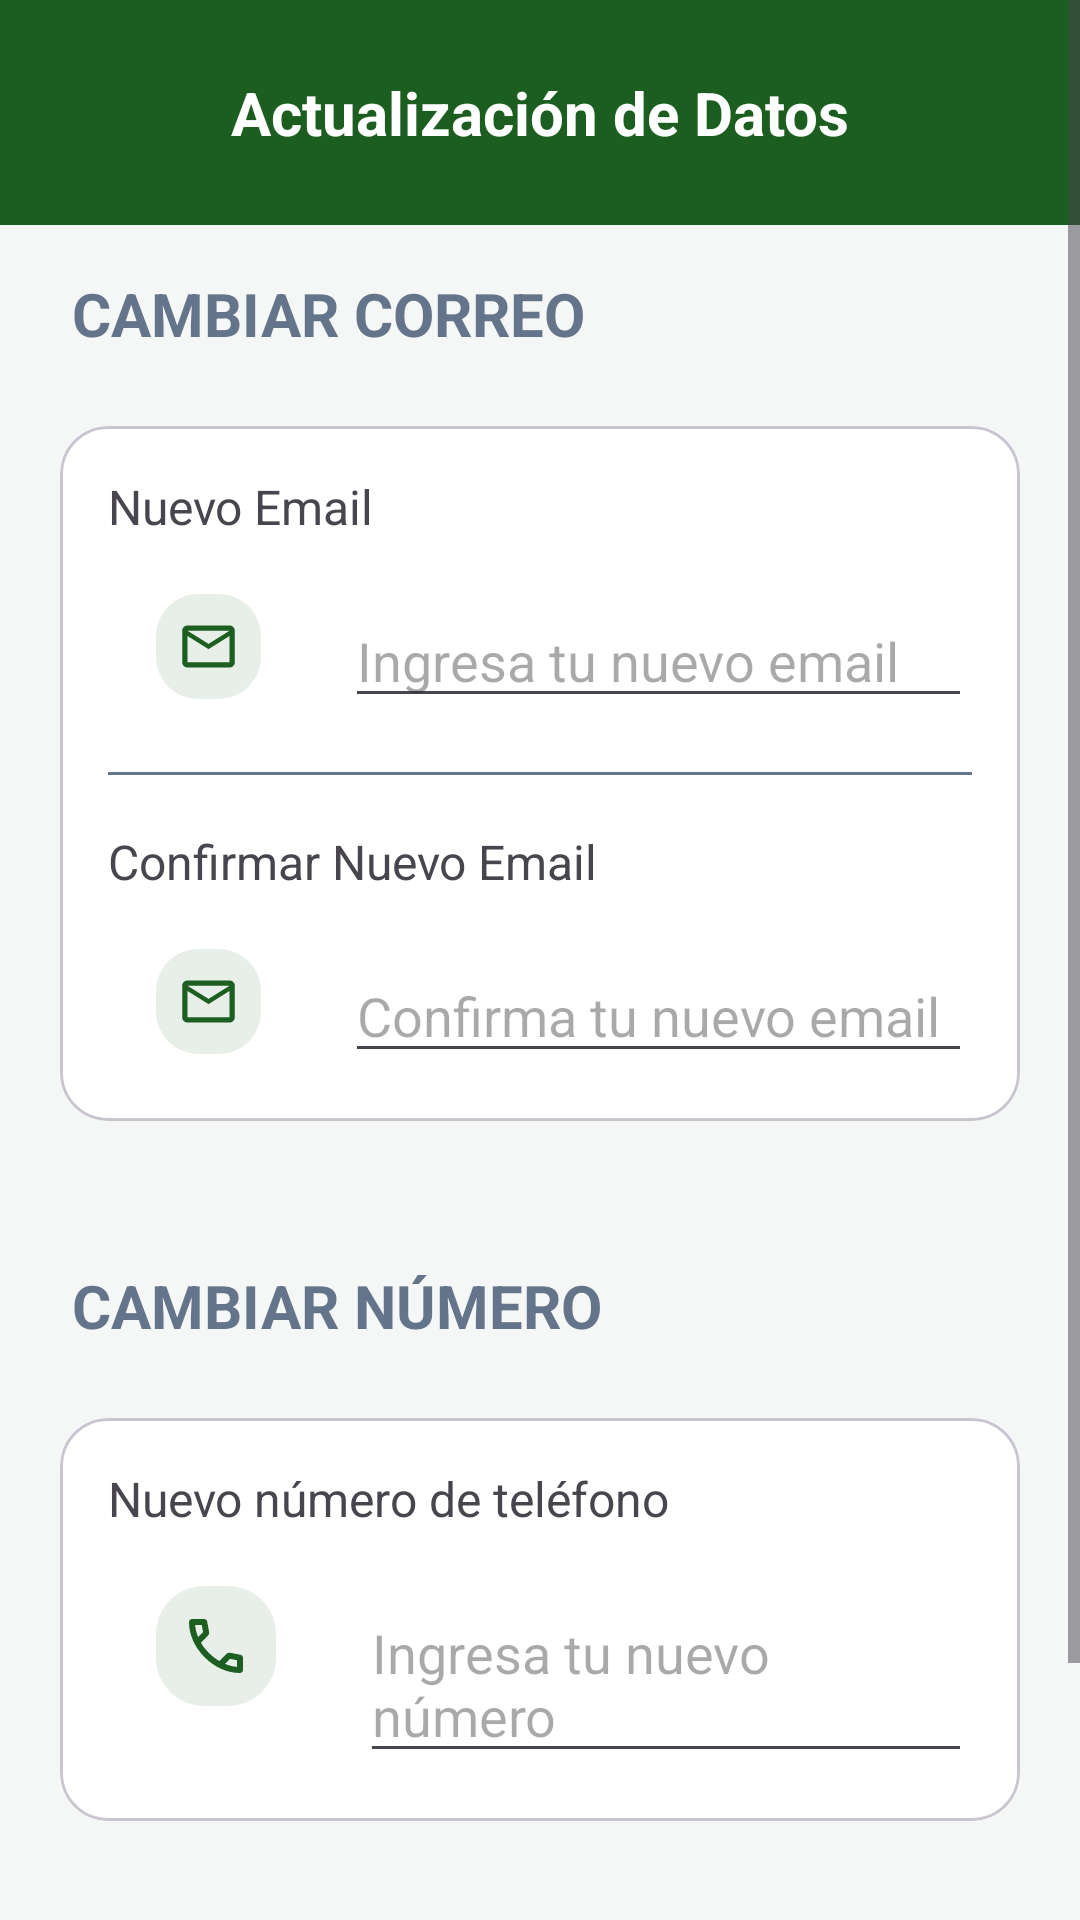

Icons on this 1080px×1920px Android screen, each with its box as (x1, y1, x2, y2):
numero: (156, 1586, 276, 1706)
